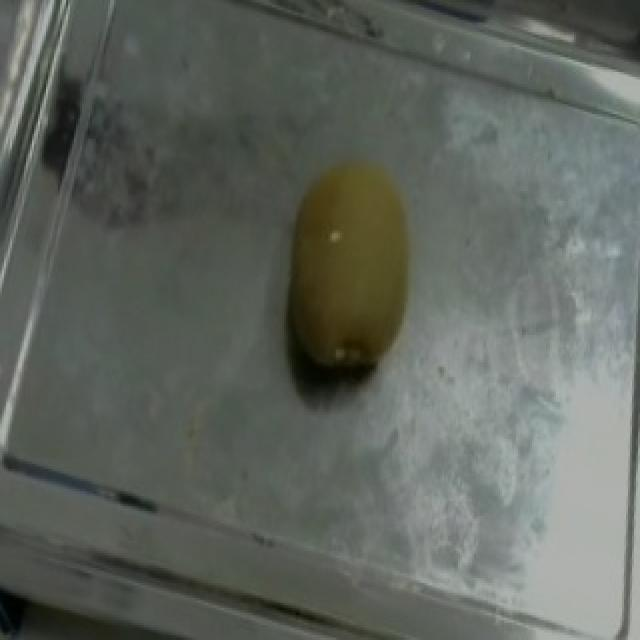Fruit: (246, 126, 454, 412)
